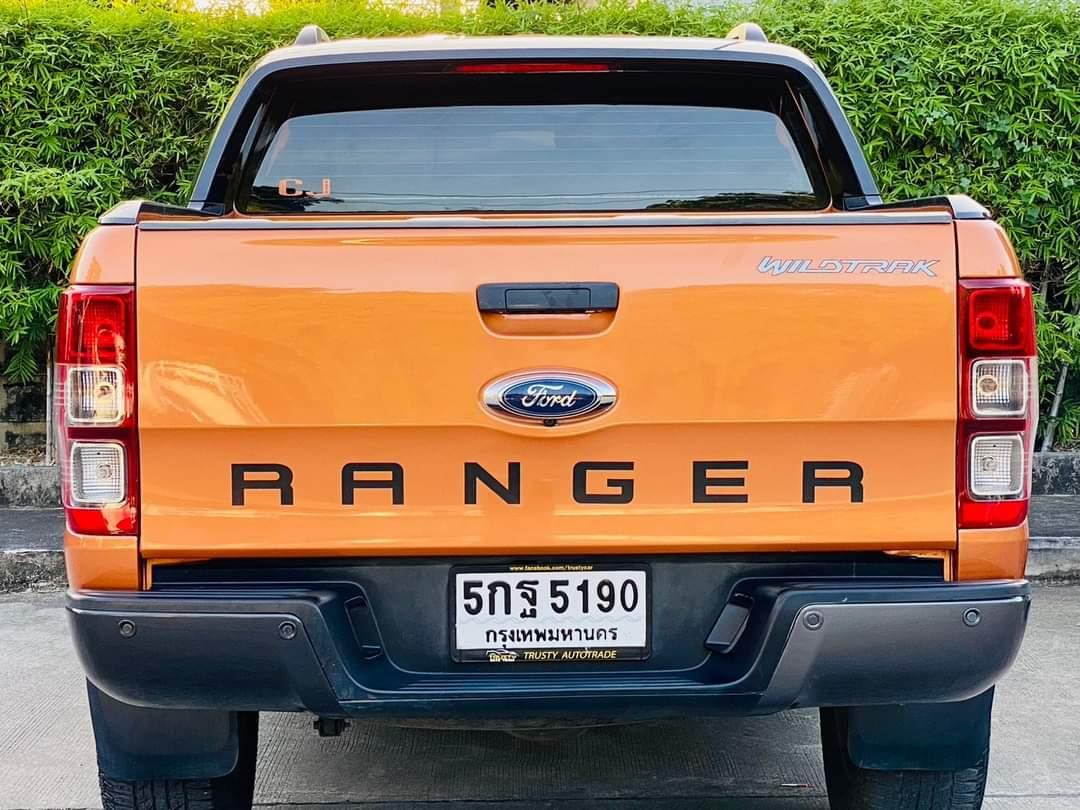license-plate: (442, 559, 655, 670)
